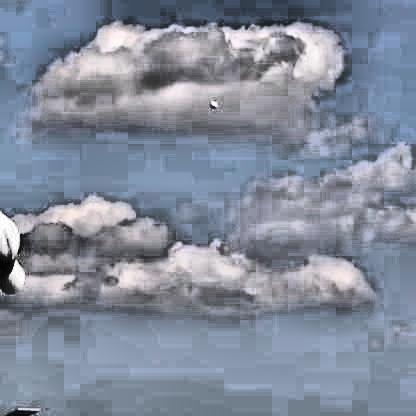golfball: (207, 99, 215, 107)
